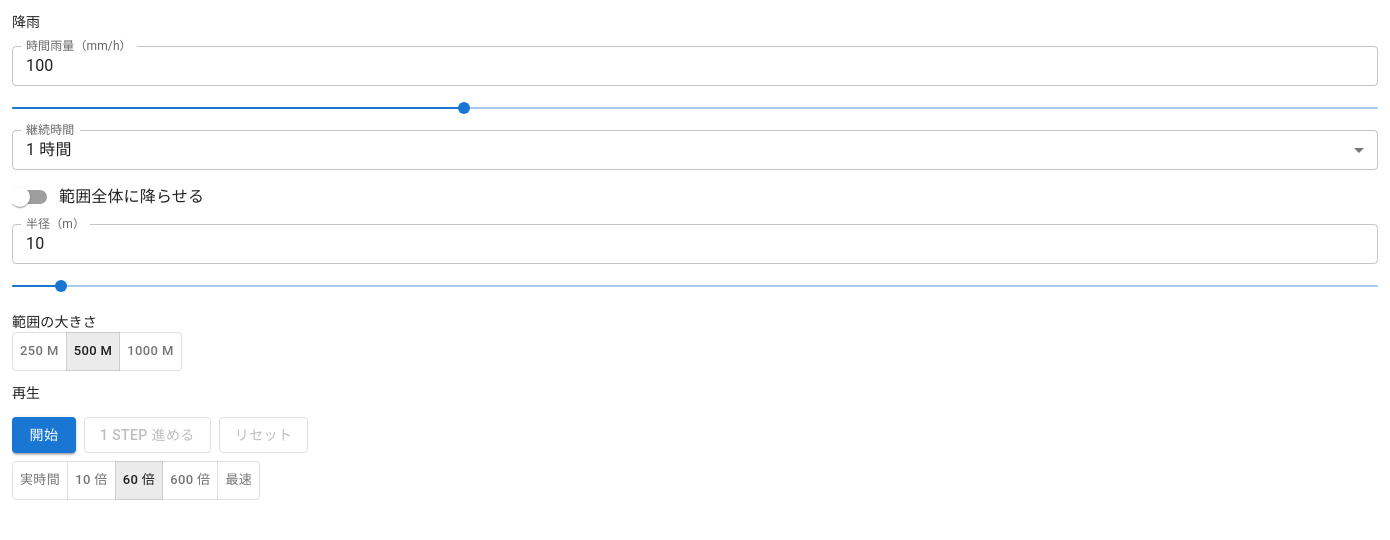
Test: ControlsSection: 雨の入力と検証（spec 08 §4.1・§6.3、R08-7） › 範囲 1000 m を選ぶと注意書きを出す。ほかの大きさでは出ない（spec 08 §6.2 の文）
Expected: the text "範囲 1000 m は計算に時間がかかることがあります（雨を範囲全体に降らせると特に）。" is not shown
Click the button "1000 m" at [150, 351], box [119,332,182,371]
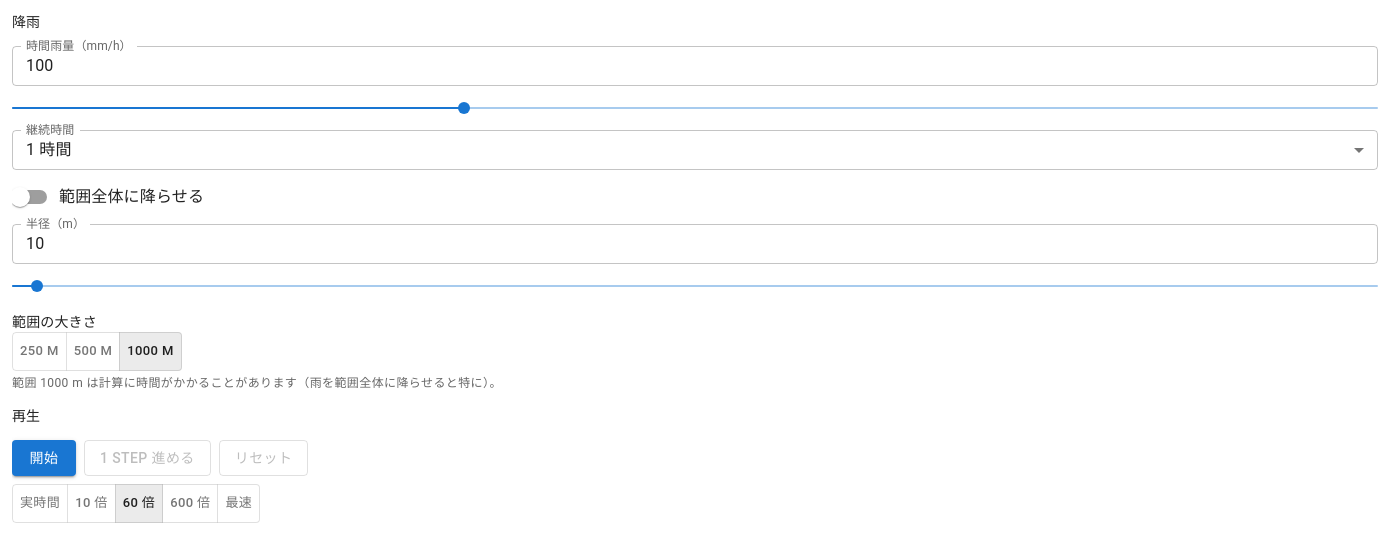
Expected: the text "範囲 1000 m は計算に時間がかかることがあります（雨を範囲全体に降らせると特に）。" is shown, [12,376,502,390]
Click the button "500 m" at [93, 351], box [66,332,120,371]
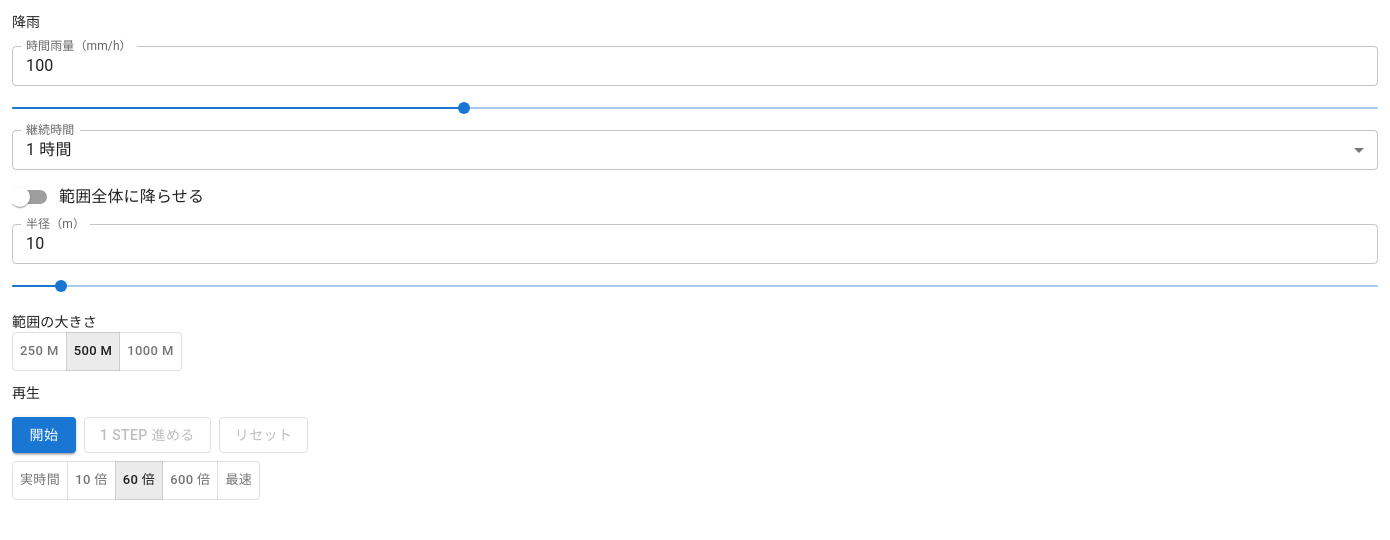
Expected: the text "範囲 1000 m は計算に時間がかかることがあります（雨を範囲全体に降らせると特に）。" is gone
